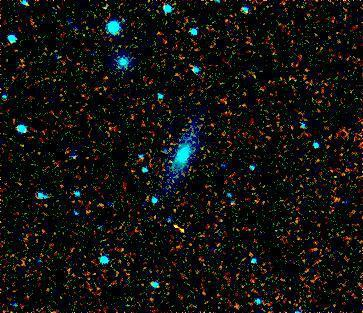star: (165, 217, 195, 247)
